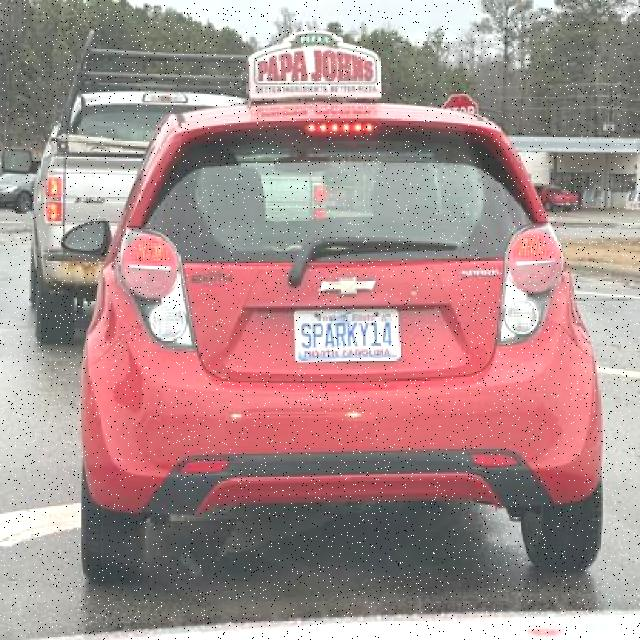licenseplate: (293, 309, 401, 362)
